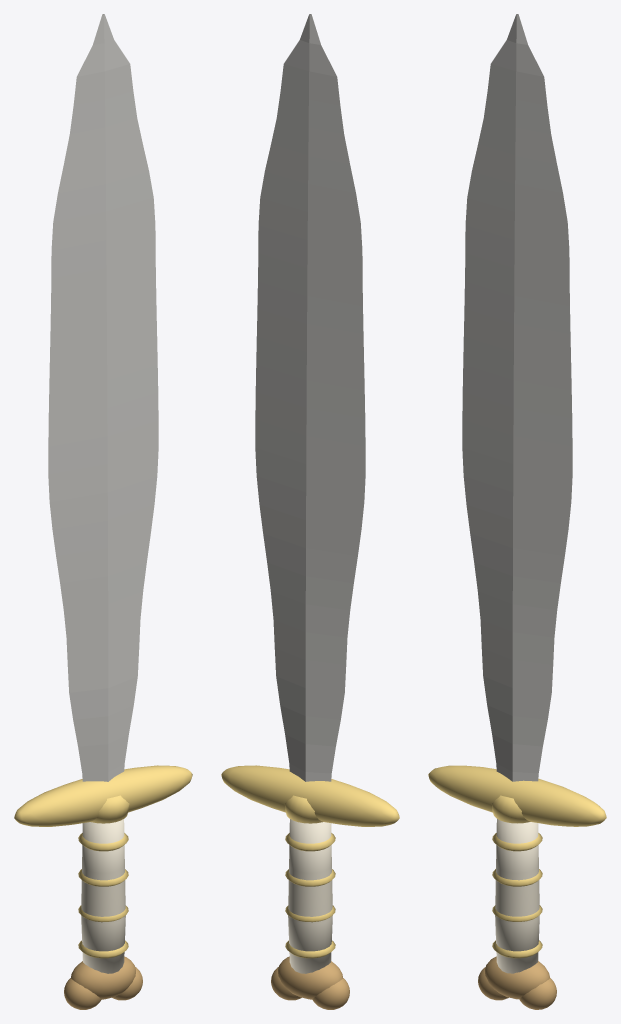
The model's file is sword.glb.
3 views of the same model, side by side, from view 1: azimuth 30°, elevation 25°; view 2: azimuth 150°, elevation 25°; view 3: azimuth 330°, elevation 25° (orthographic).
Visible parts, largest first — view 1: blade, grip, guard, pommel, collar; view 2: blade, grip, guard, pommel, collar; view 3: blade, grip, guard, pommel, collar.
Boxes of the visible parts, x1=… form: blade: x1=48, y1=14, x2=158, y2=781; grip: x1=78, y1=819, x2=128, y2=973; guard: x1=14, y1=765, x2=192, y2=826; pommel: x1=64, y1=956, x2=142, y2=1009; collar: x1=91, y1=795, x2=129, y2=823; blade: x1=255, y1=14, x2=365, y2=781; grip: x1=285, y1=819, x2=335, y2=973; guard: x1=221, y1=765, x2=399, y2=826; pommel: x1=271, y1=956, x2=349, y2=1009; collar: x1=284, y1=795, x2=322, y2=823; blade: x1=462, y1=14, x2=572, y2=781; grip: x1=492, y1=819, x2=542, y2=973; guard: x1=428, y1=765, x2=606, y2=826; pommel: x1=478, y1=956, x2=556, y2=1009; collar: x1=491, y1=795, x2=530, y2=823.
Size of the model in its own units: 0.11 by 0.582 by 0.03.
